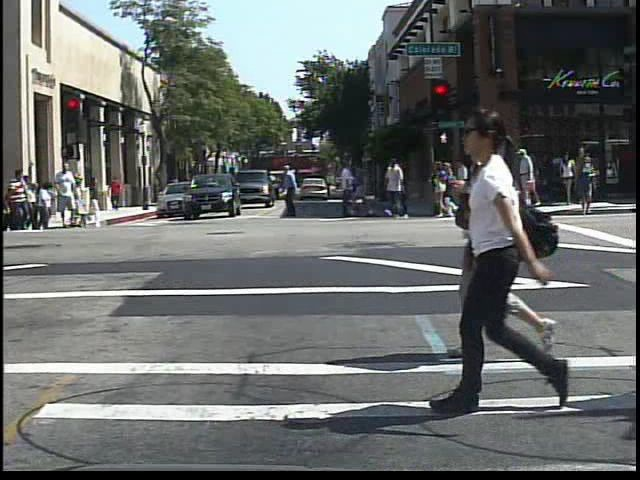person: (447, 104, 566, 416), (431, 114, 520, 356), (514, 143, 547, 214), (52, 162, 82, 231), (8, 164, 33, 234), (107, 175, 126, 213), (167, 172, 185, 204)
